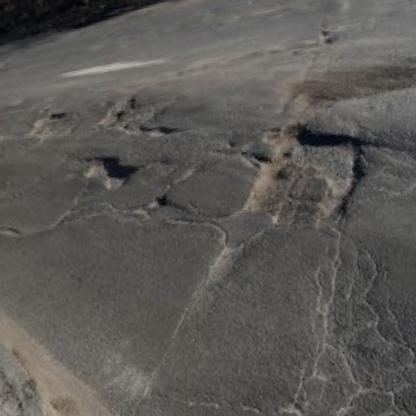pothole: (232, 107, 379, 239), (79, 148, 142, 197), (140, 121, 181, 142), (144, 193, 171, 213), (111, 108, 130, 124), (123, 95, 139, 113), (48, 110, 67, 122), (224, 138, 237, 151), (322, 37, 335, 46), (320, 27, 330, 37)
